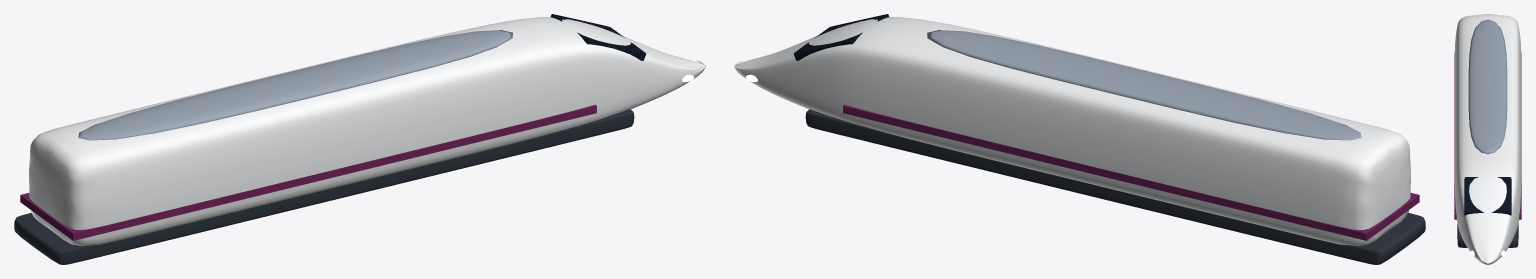
File: tren_avant_motriz.glb
3 views of the same model, side by side, from view 1: azimuth 30°, elevation 25°; view 2: azimuth 150°, elevation 25°; view 3: azimuth 270°, elevation 25° (orthographic). The views are drawn at different scales.
Parts seen in each view (by area): view 1: MotrizCuerpo, TechoMotriz, Cube, Cube.001, Cube.002; view 2: MotrizCuerpo, TechoMotriz, Cube, Cube.001, Cube.002; view 3: MotrizCuerpo, TechoMotriz, Cube.002, Cube.001, Cube.
Boxes of the visible parts, x1,y1,x2,y2 form: MotrizCuerpo: [29, 17, 705, 246]; TechoMotriz: [78, 30, 512, 140]; Cube: [14, 109, 634, 264]; Cube.001: [20, 104, 596, 240]; Cube.002: [550, 14, 646, 60]; MotrizCuerpo: [734, 17, 1410, 246]; TechoMotriz: [927, 30, 1361, 140]; Cube: [805, 109, 1425, 264]; Cube.001: [843, 104, 1419, 240]; Cube.002: [793, 14, 889, 60]; MotrizCuerpo: [1454, 14, 1521, 264]; TechoMotriz: [1468, 19, 1507, 154]; Cube.002: [1464, 177, 1511, 215]; Cube.001: [1454, 53, 1521, 219]; Cube: [1457, 224, 1518, 247].
Size of the model in its own units: 21.48 by 3.22 by 2.95.
